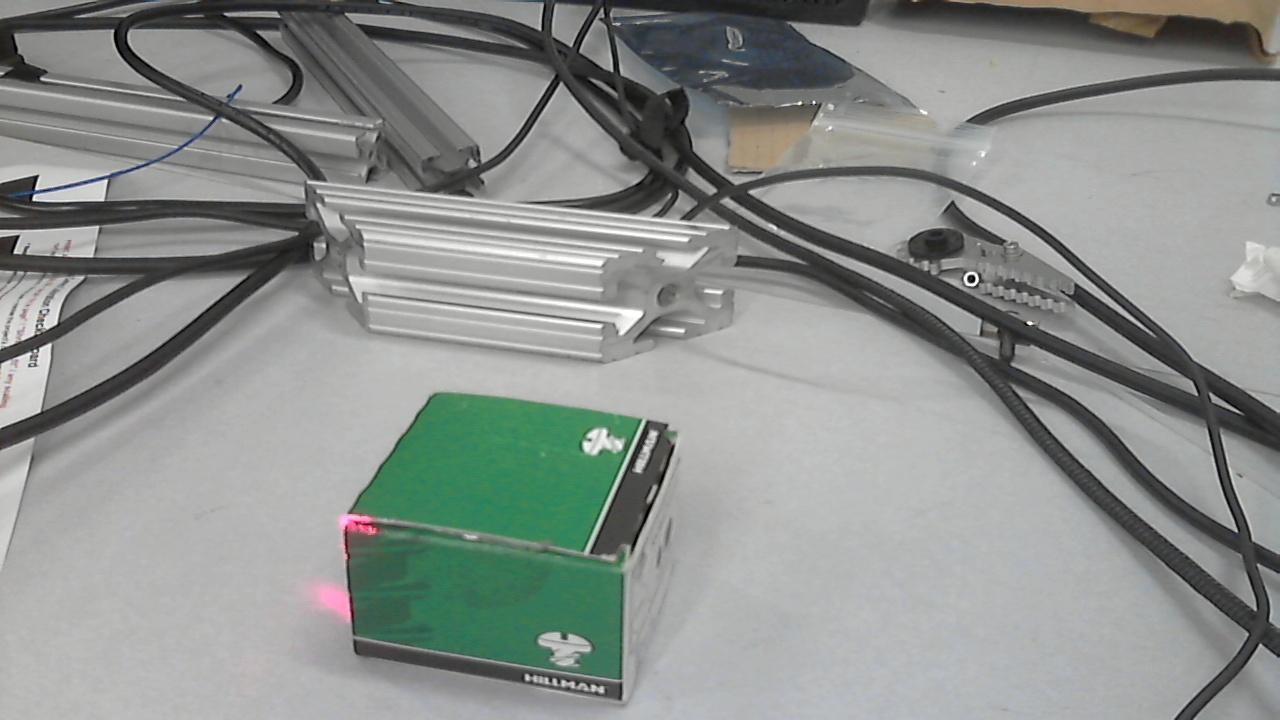Object toy football - Material foam - Color blue - Pdfname VT1ffZoLOnKv: (322, 498, 419, 562)
